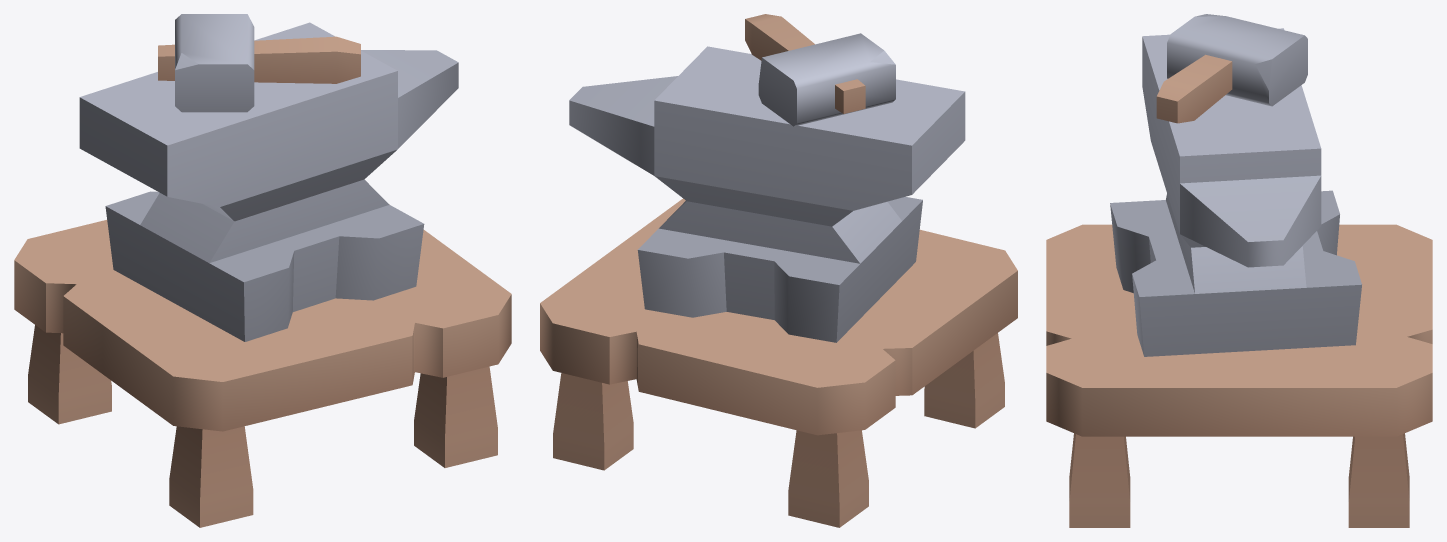
File: workbench-anvil.glb
3 renders of one model, left to right at view 1: azimuth 30°, elevation 25°; view 2: azimuth 150°, elevation 25°; view 3: azimuth 270°, elevation 25°, orthographic. The views are drawn at different scales.
Parts seen in each view (by area): view 1: workbench-anvil, hammer; view 2: workbench-anvil, hammer; view 3: workbench-anvil, hammer.
Boxes of the visible parts, bbox=[...] form: workbench-anvil: bbox=[14, 22, 511, 527]; hammer: bbox=[158, 14, 360, 112]; workbench-anvil: bbox=[540, 46, 1017, 527]; hammer: bbox=[745, 14, 895, 126]; workbench-anvil: bbox=[1046, 28, 1432, 527]; hammer: bbox=[1156, 14, 1307, 123].
Bounding box in the file's own units: 0.3227 × 0.3357 × 0.2957.
